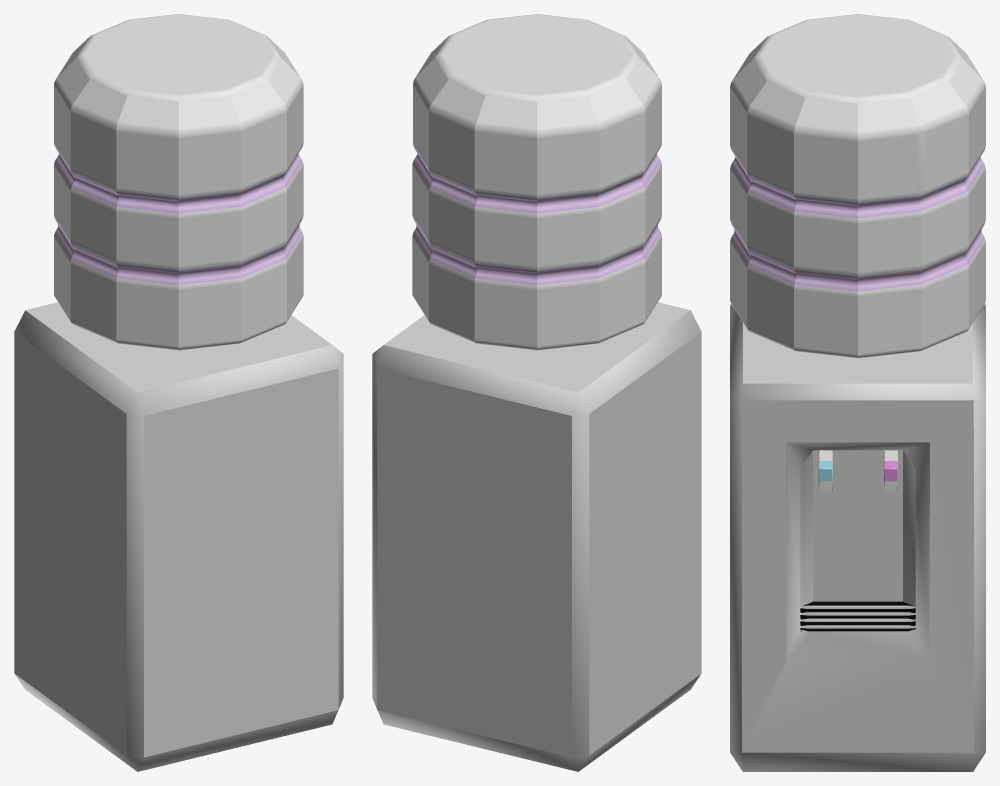
Rendered from Water3d.fbx.
3 views of the same model, side by side, from view 1: azimuth 30°, elevation 25°; view 2: azimuth 150°, elevation 25°; view 3: azimuth 270°, elevation 25° (orthographic). The views are drawn at different scales.
Parts seen in each view (by area): view 1: Cube, Cylinder; view 2: Cube, Cylinder; view 3: Cube, Cylinder, Cube.003, Cube.002, Cube.001.
Part boxes in pixels (x1=…): Cube: x1=14, y1=302, x2=343, y2=771; Cylinder: x1=54, y1=14, x2=303, y2=350; Cube: x1=372, y1=302, x2=701, y2=771; Cylinder: x1=412, y1=14, x2=661, y2=350; Cube: x1=730, y1=304, x2=985, y2=771; Cylinder: x1=730, y1=14, x2=985, y2=358; Cube.003: x1=800, y1=601, x2=915, y2=631; Cube.002: x1=818, y1=450, x2=832, y2=491; Cube.001: x1=884, y1=450, x2=897, y2=491.
Size of the model in its own units: 200 by 576 by 200.
